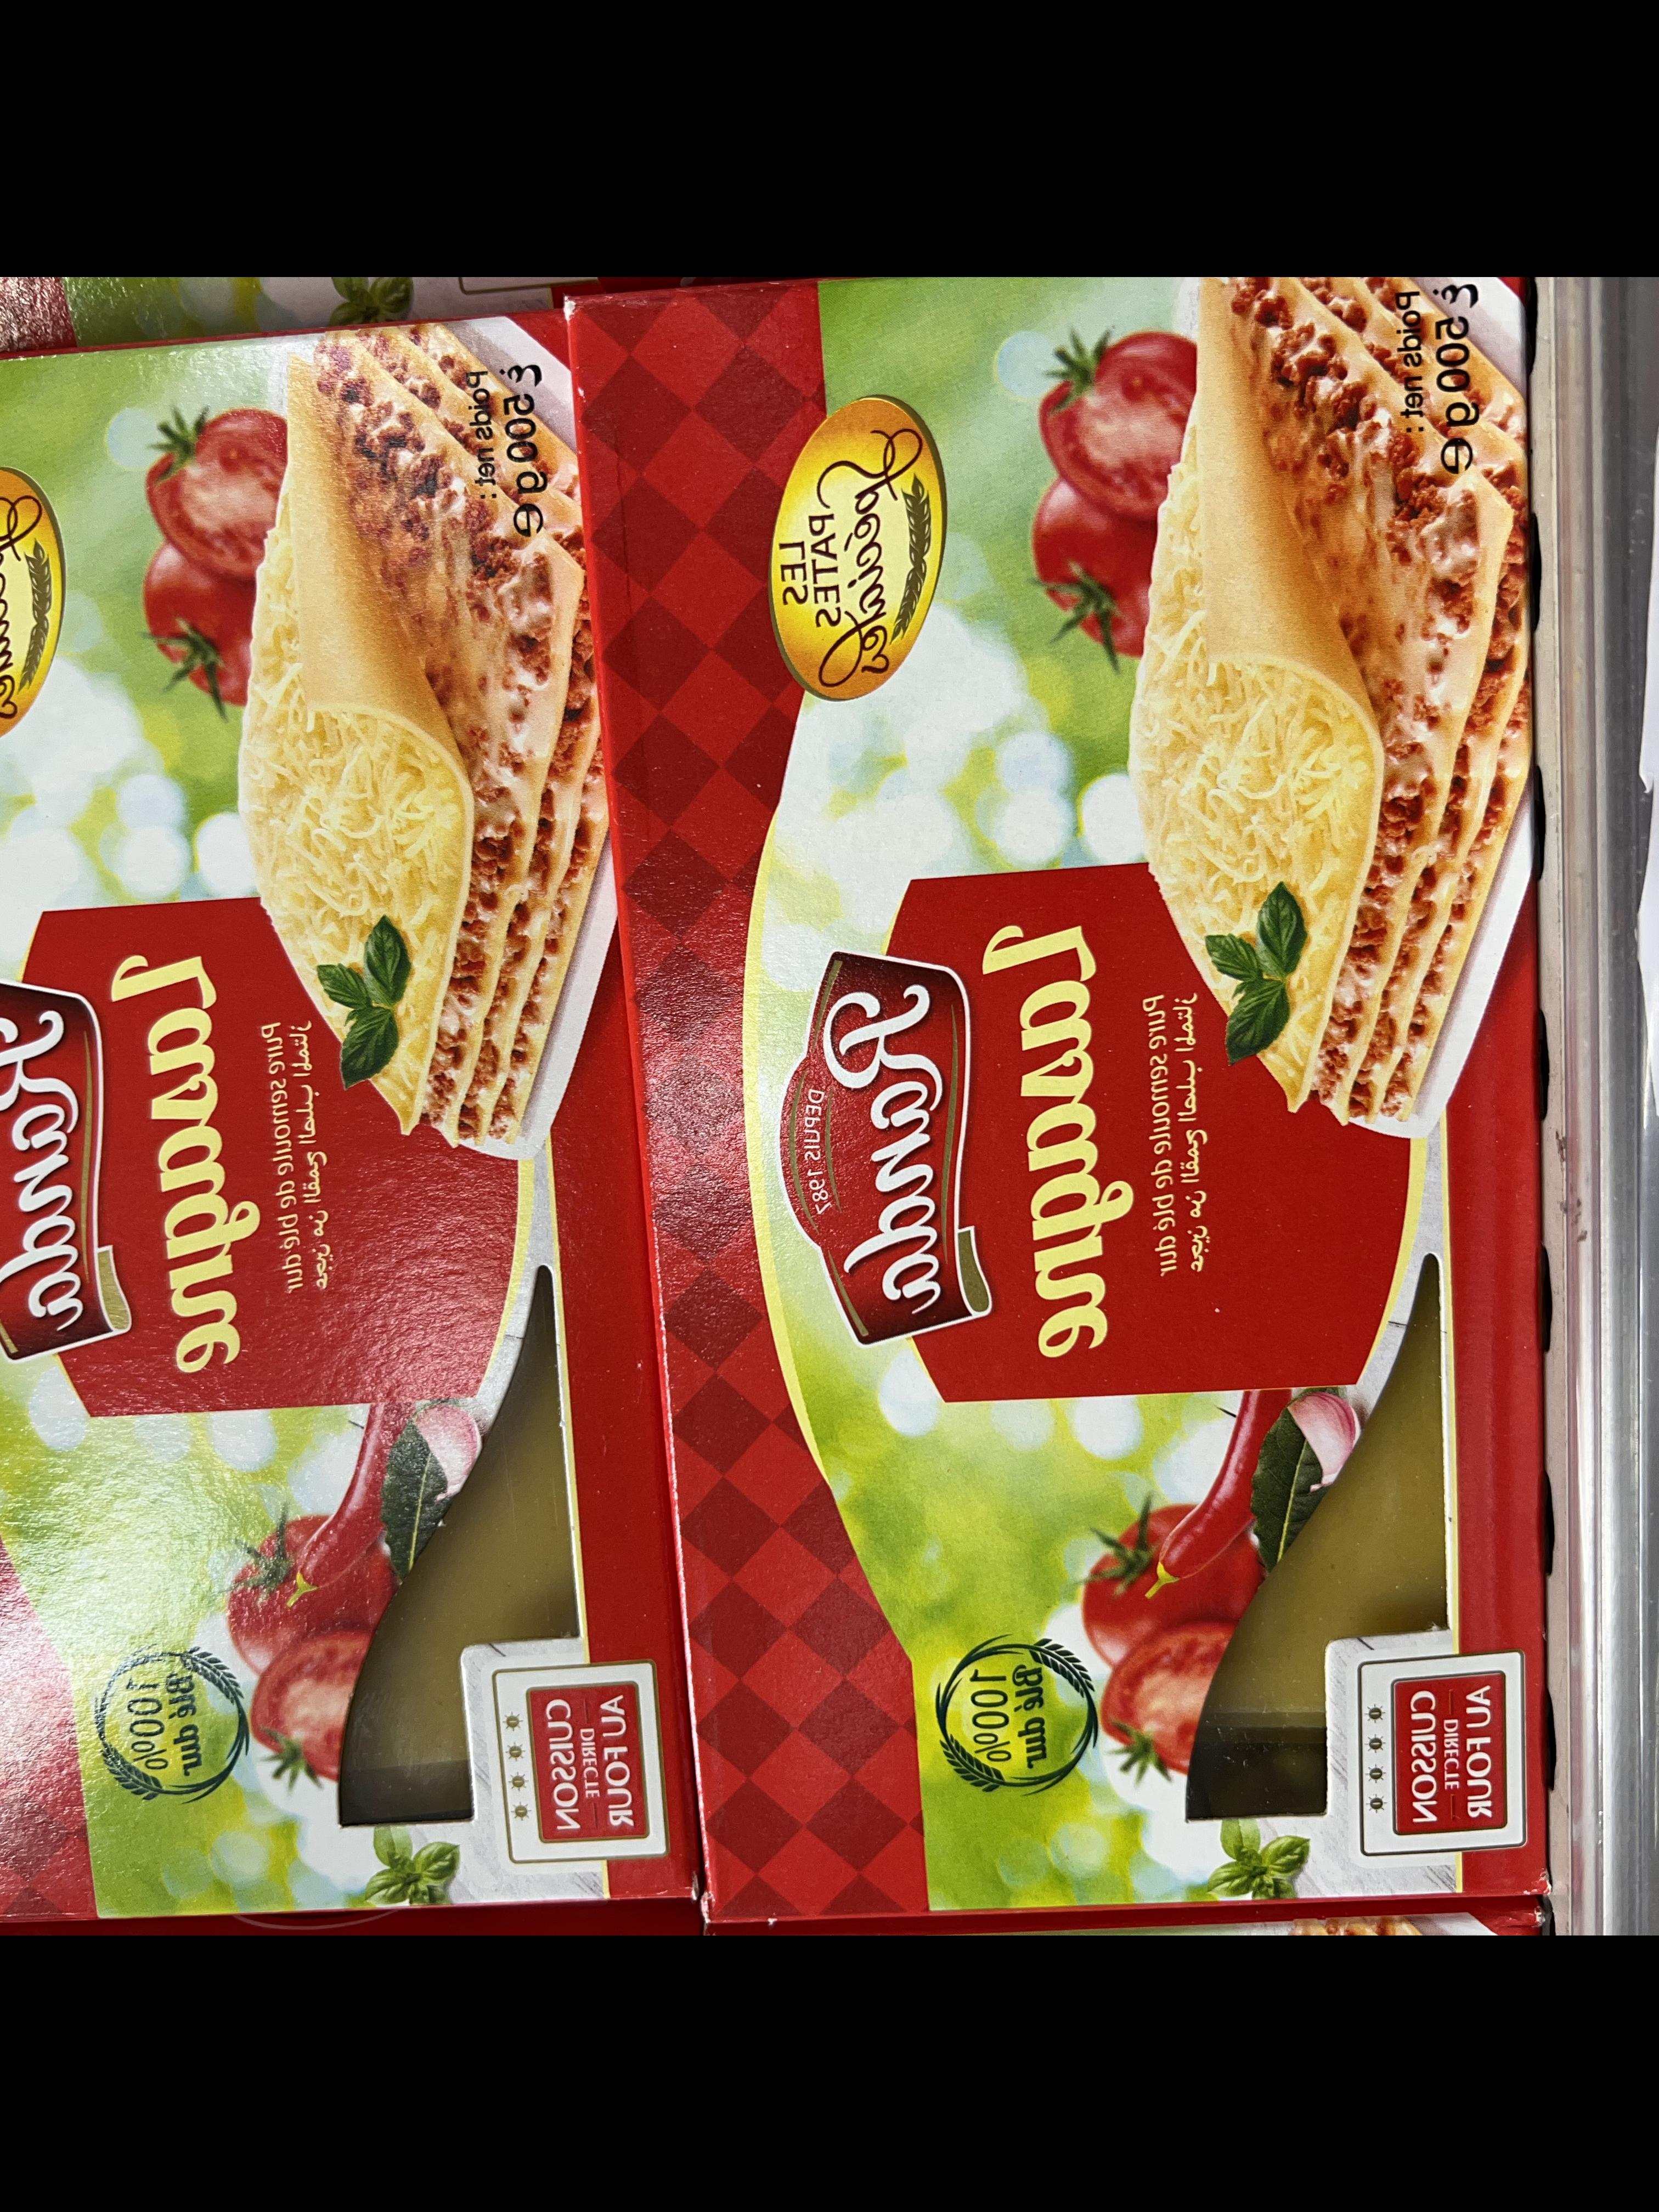lasagne: (173, 284, 566, 1099), (0, 300, 204, 1097)
